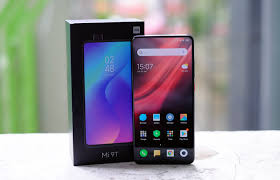mi: (129, 33, 197, 166)
